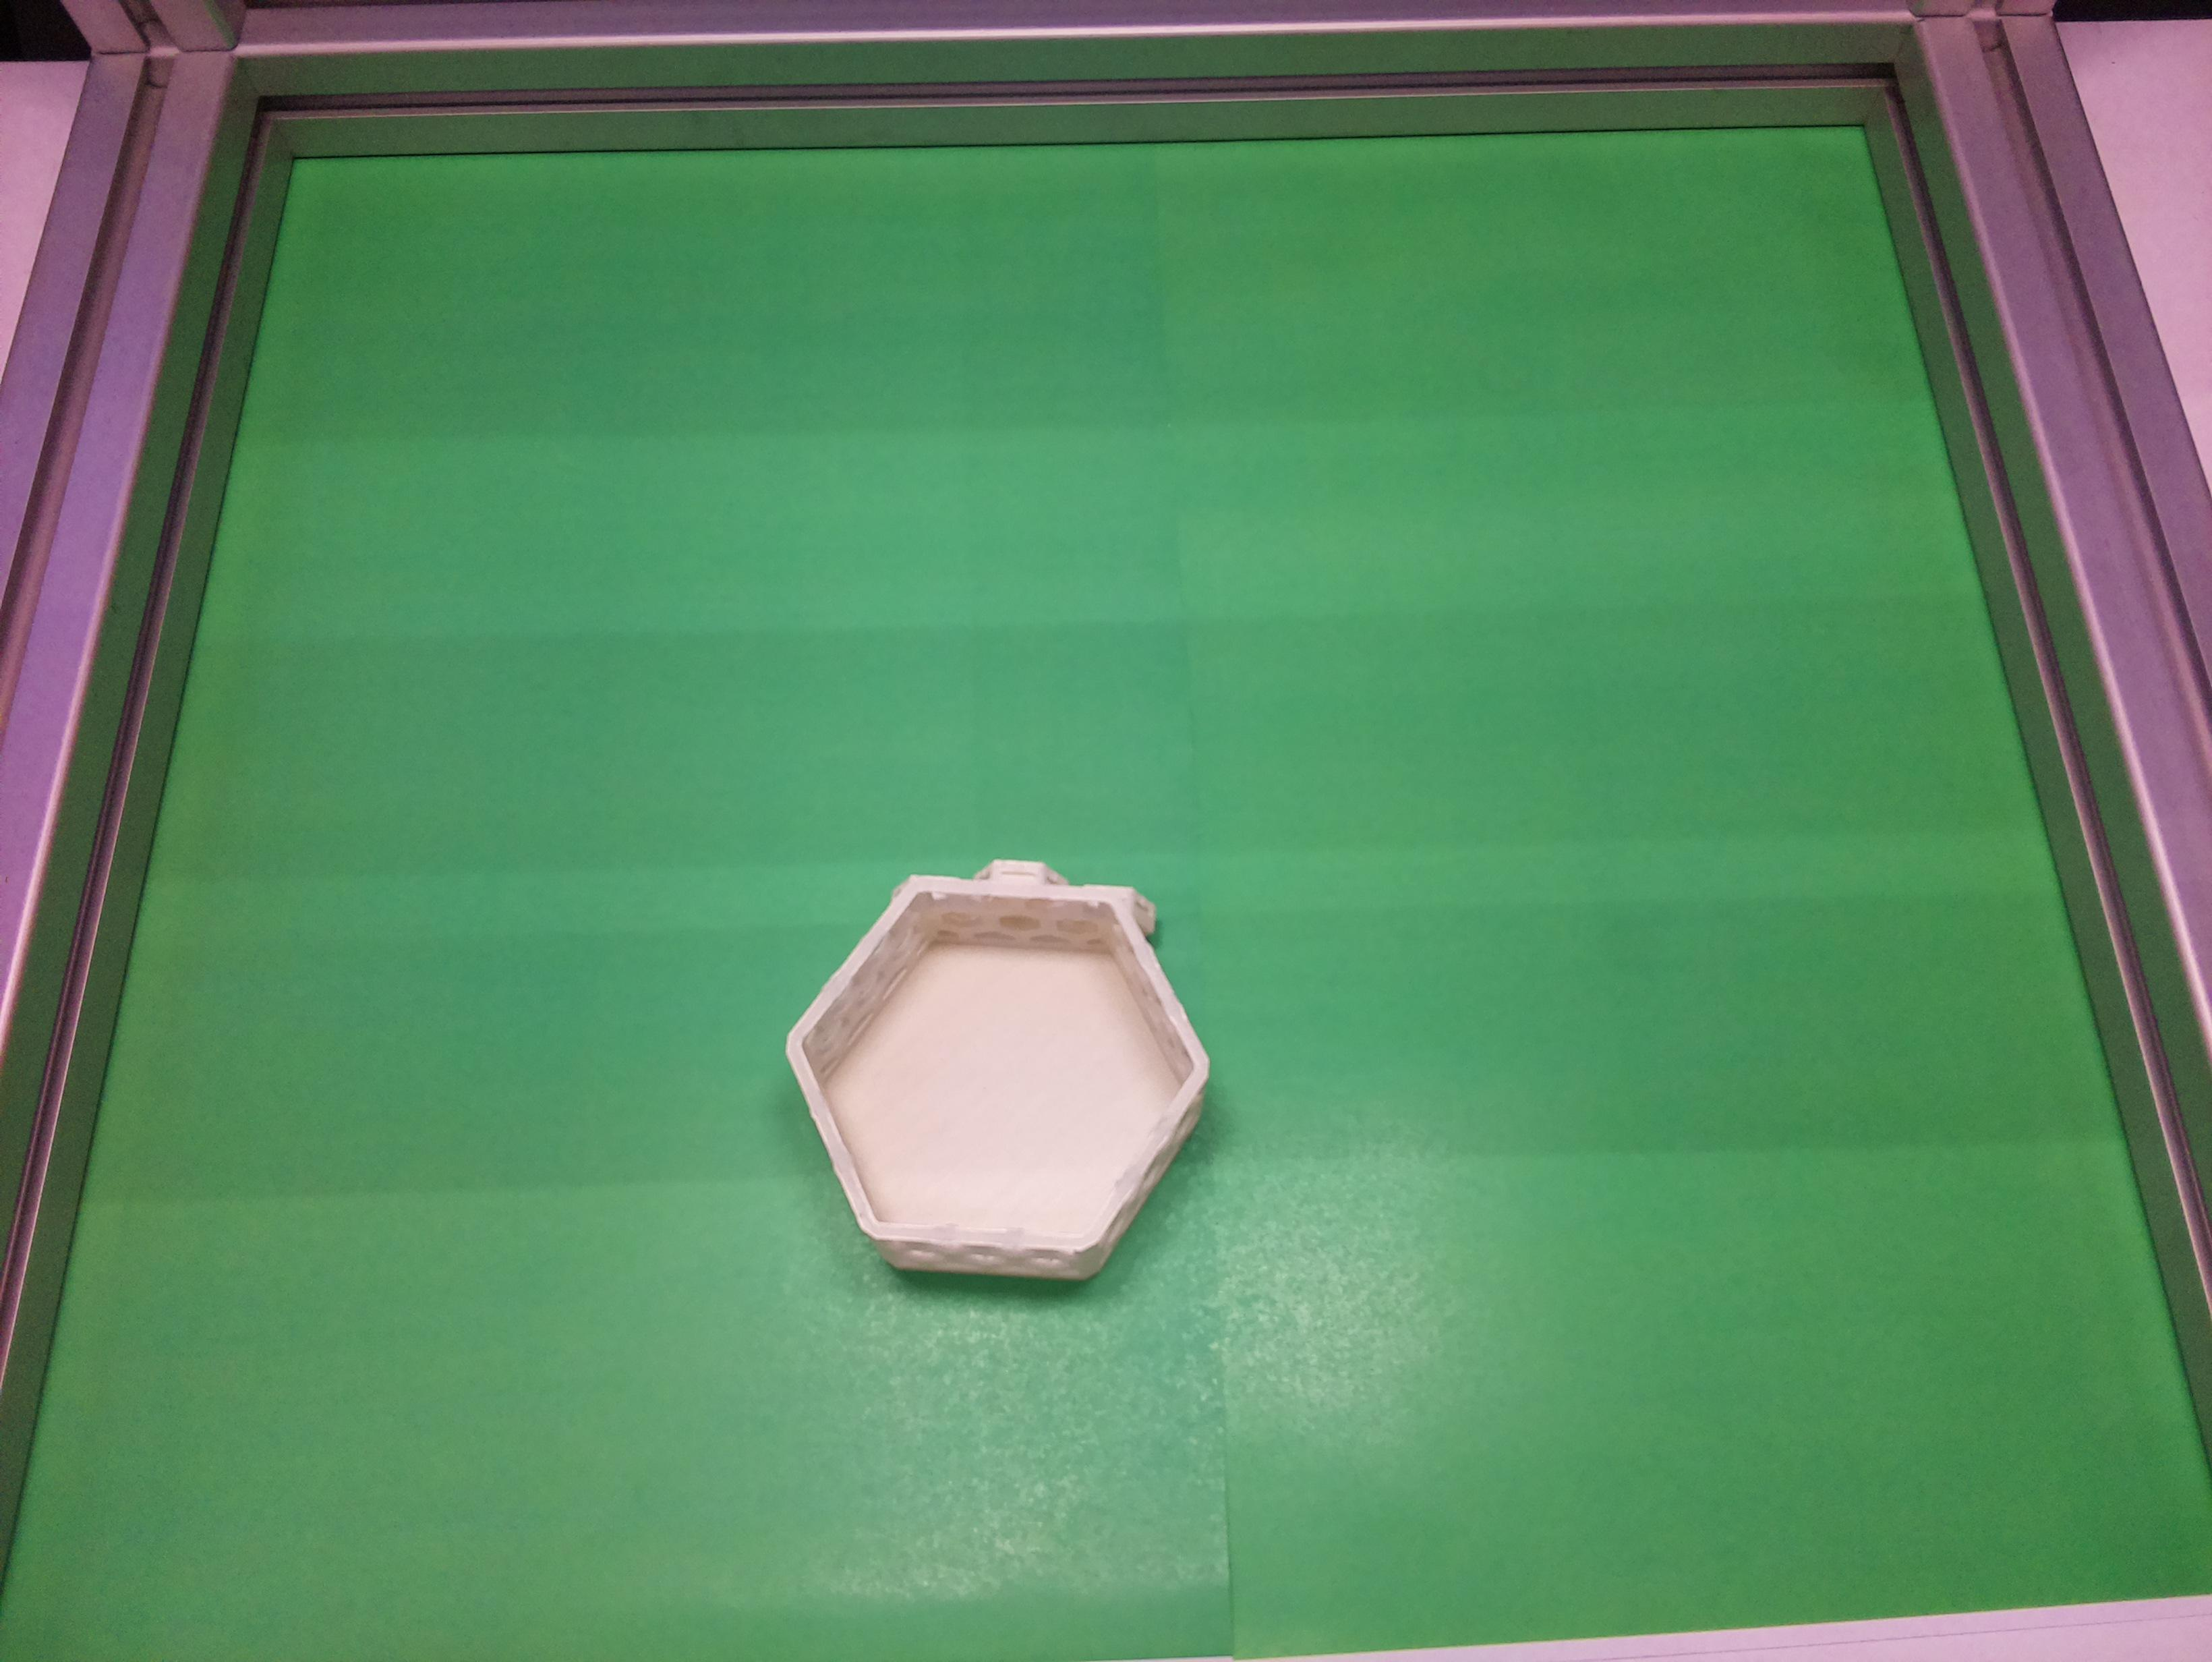bottle_holder: (745, 805, 1264, 1348)
